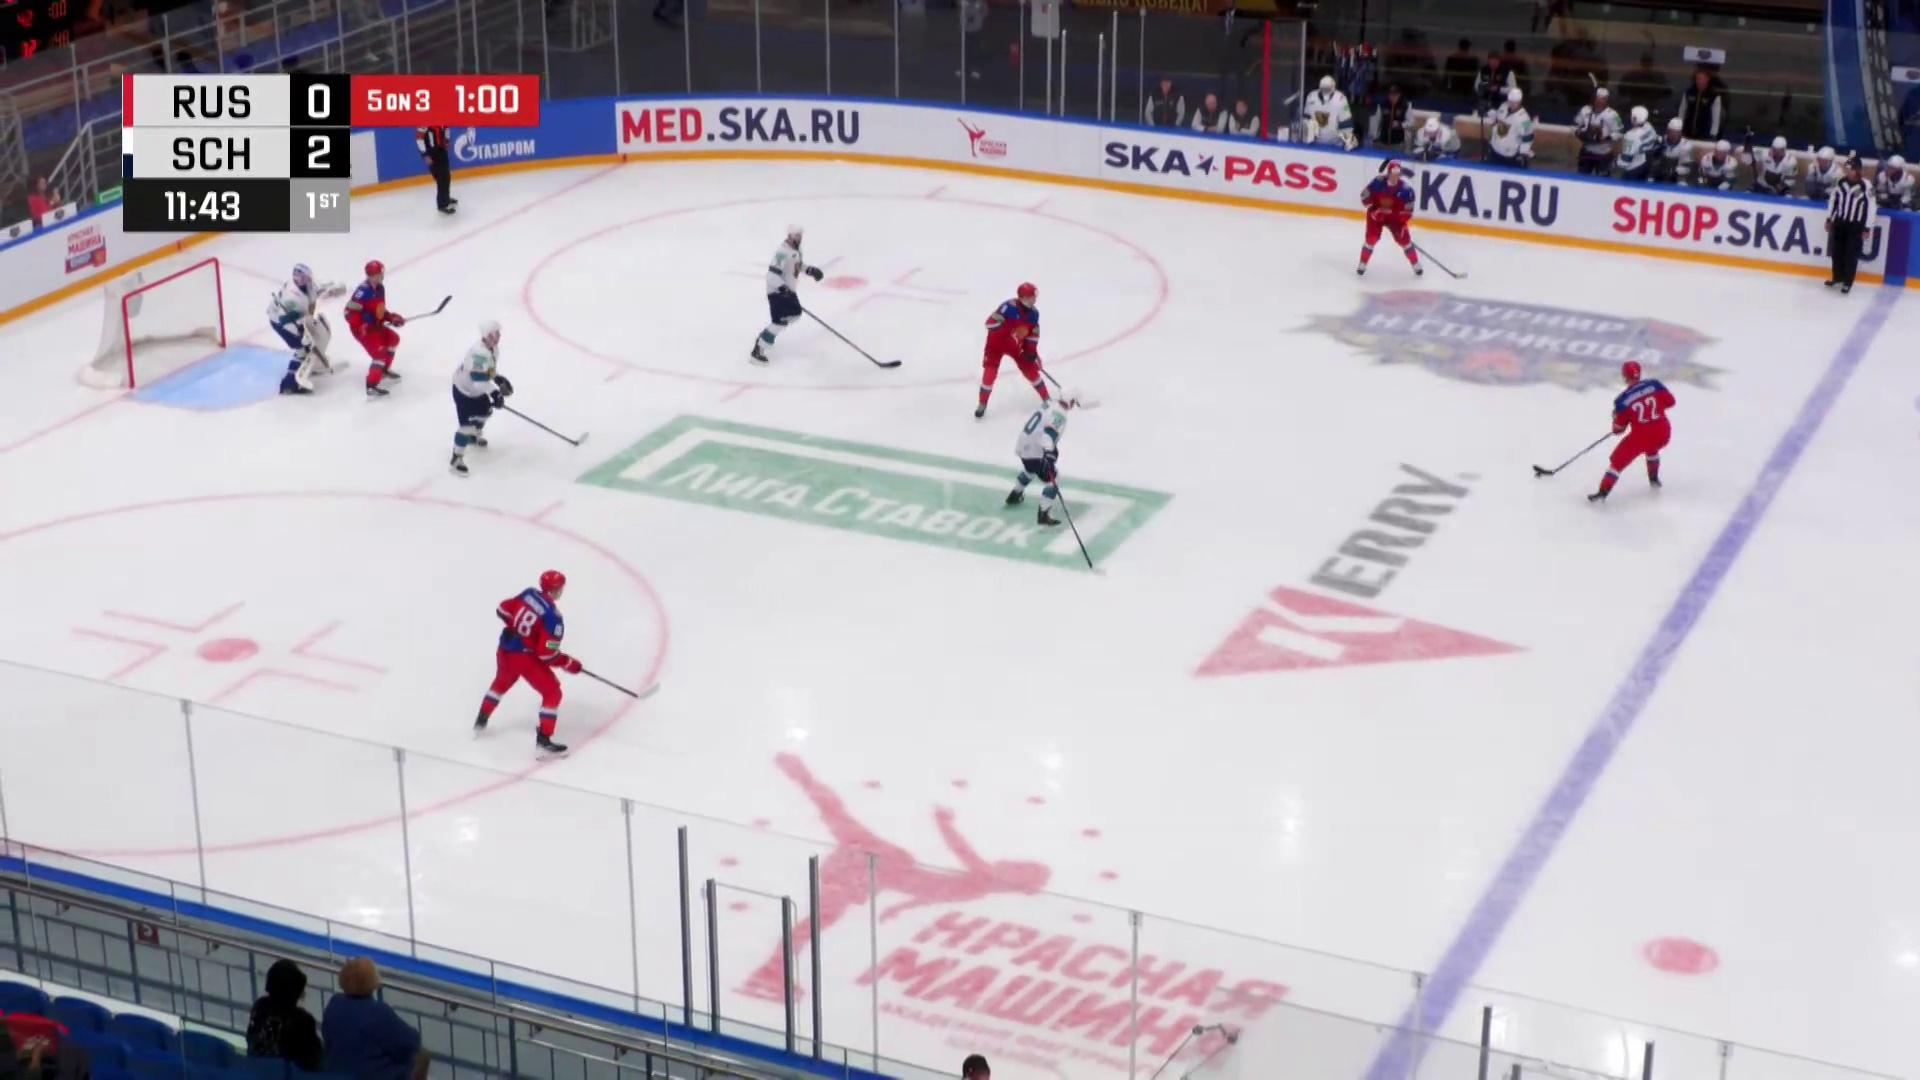ball: (1535, 472, 1542, 480)
